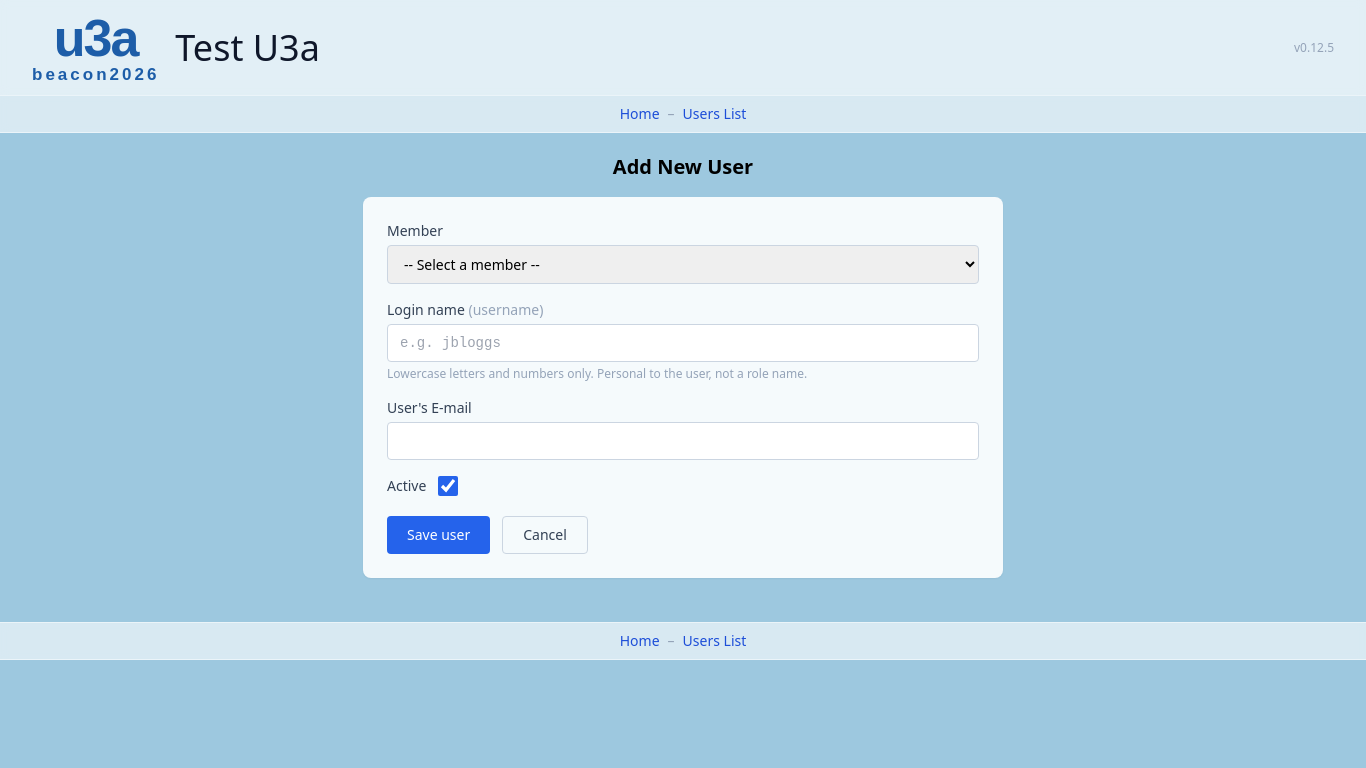
UserEditor page (new user) › requires a member to be selected before saving
Click the button "Save user".
click(439, 535)  # box [387,516,490,554]
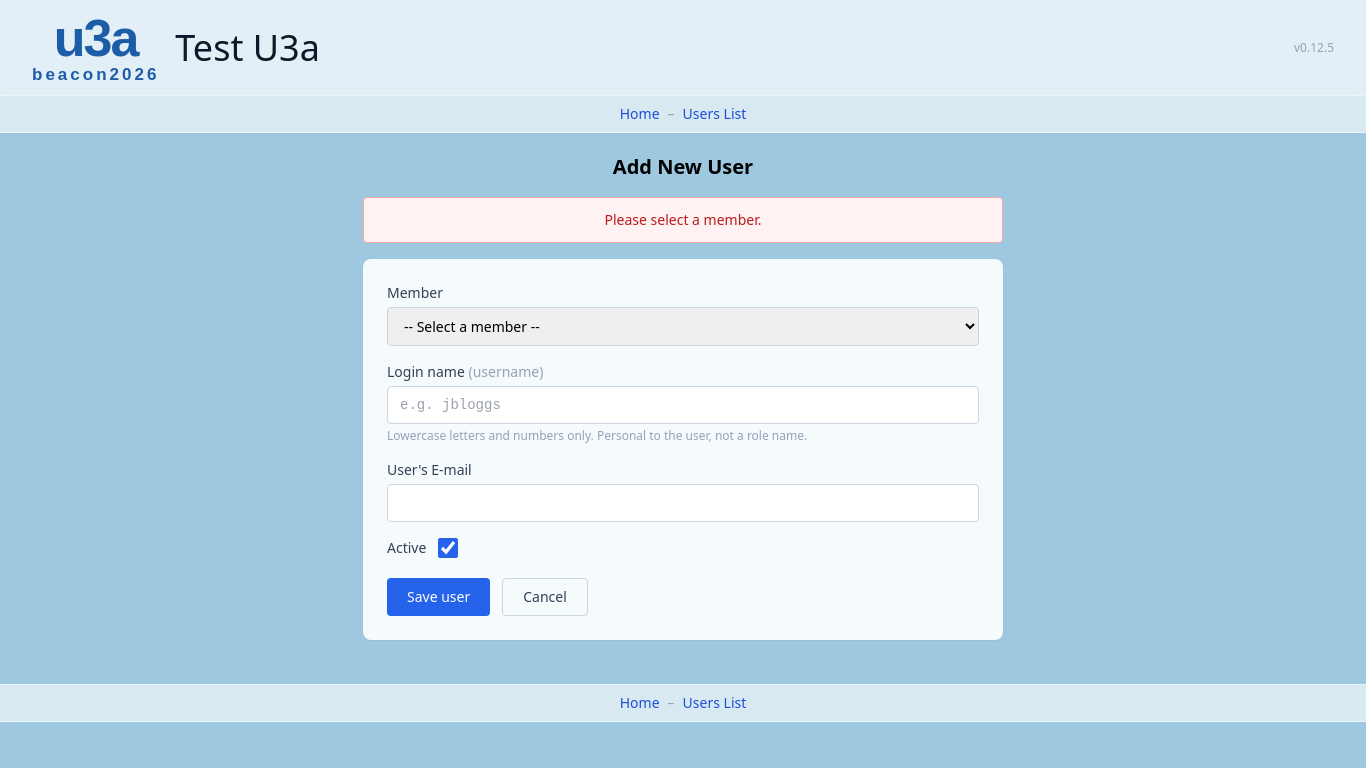
Expected: the text "Please select a member." is shown, [363,197,1003,243]
